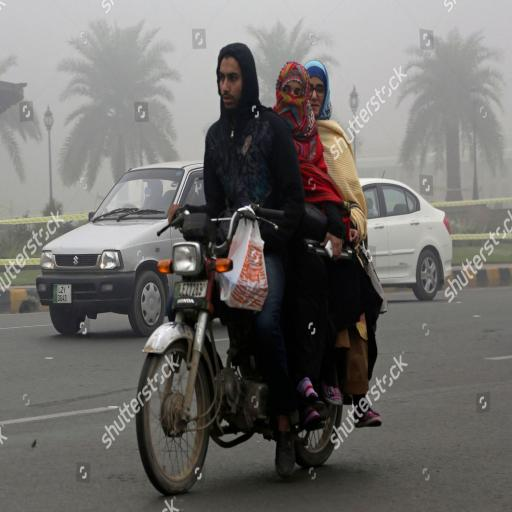overloading: (133, 201, 377, 497)
